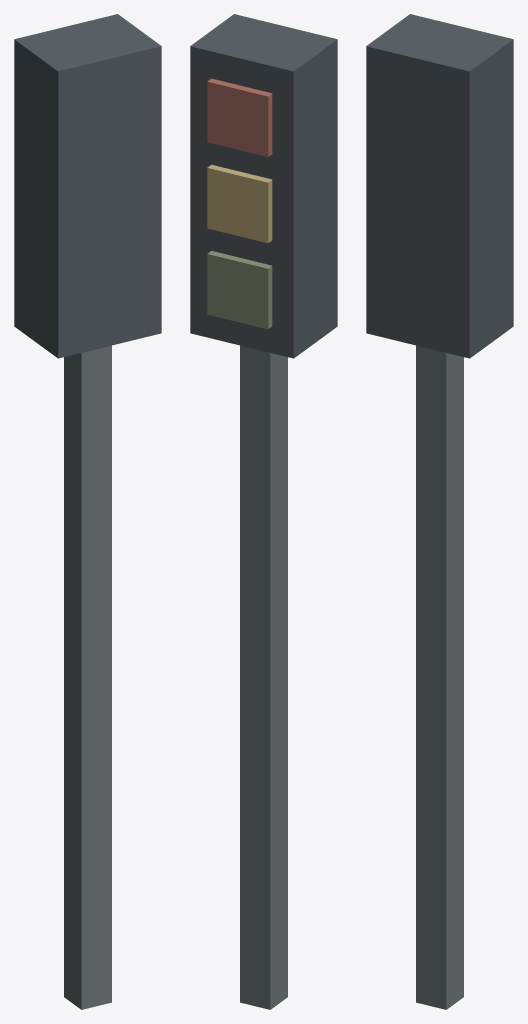
File: traffic_light.glb
The picture shows the model from 3 angles, left to right: view 1: azimuth 30°, elevation 25°; view 2: azimuth 150°, elevation 25°; view 3: azimuth 330°, elevation 25°; orthographic projection.
Visible parts, largest first — view 1: body; view 2: body; view 3: body.
Boxes of the visible parts, x1,y1,x2,y2 form: body: (14,14,161,1009); body: (190,14,337,1009); body: (366,14,513,1009).
Size of the model in its own units: 0.34 by 3 by 0.2745.
